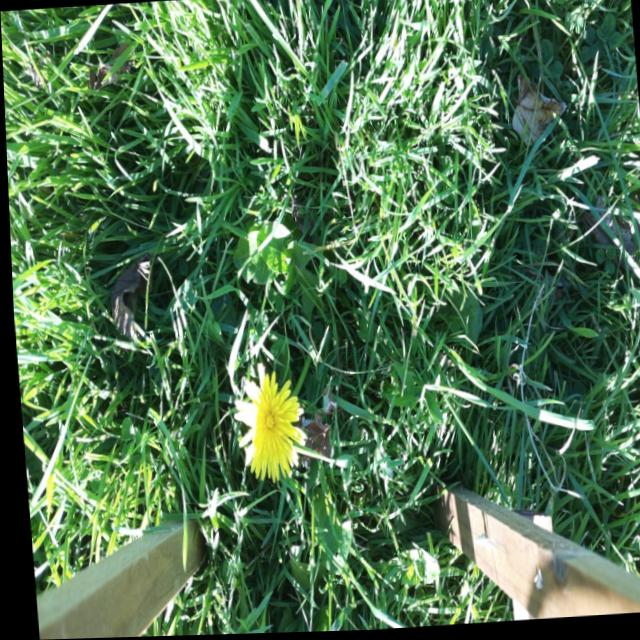base: (295, 340, 318, 377)
flower: (230, 367, 302, 485)
